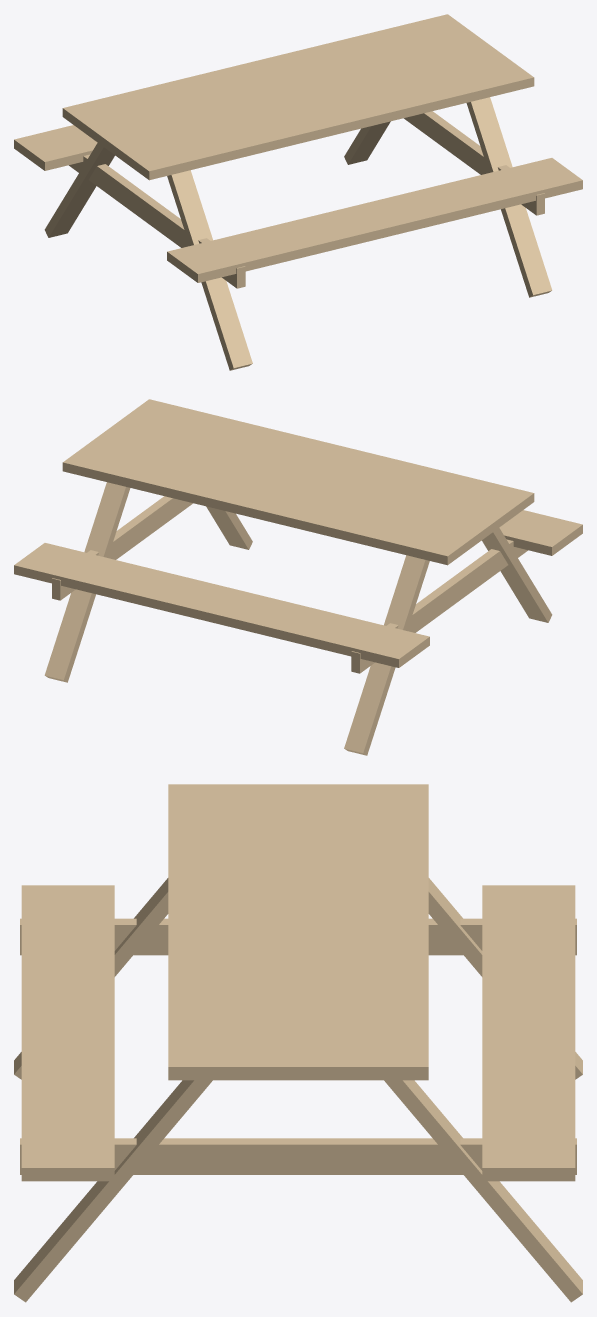
File: furniture.table.picnic.glb
3 renders of one model, top to bottom at view 1: azimuth 30°, elevation 25°; view 2: azimuth 150°, elevation 25°; view 3: azimuth 270°, elevation 25°, orthographic. The views are drawn at different scales.
Visible parts, largest first — view 1: main__softwood; view 2: main__softwood; view 3: main__softwood.
Boxes of the visible parts, x1=… form: main__softwood: x1=14, y1=14, x2=582, y2=370; main__softwood: x1=14, y1=399, x2=582, y2=755; main__softwood: x1=14, y1=784, x2=582, y2=1302.
Size of the model in its own units: 1.8 by 0.7721 by 1.53.
